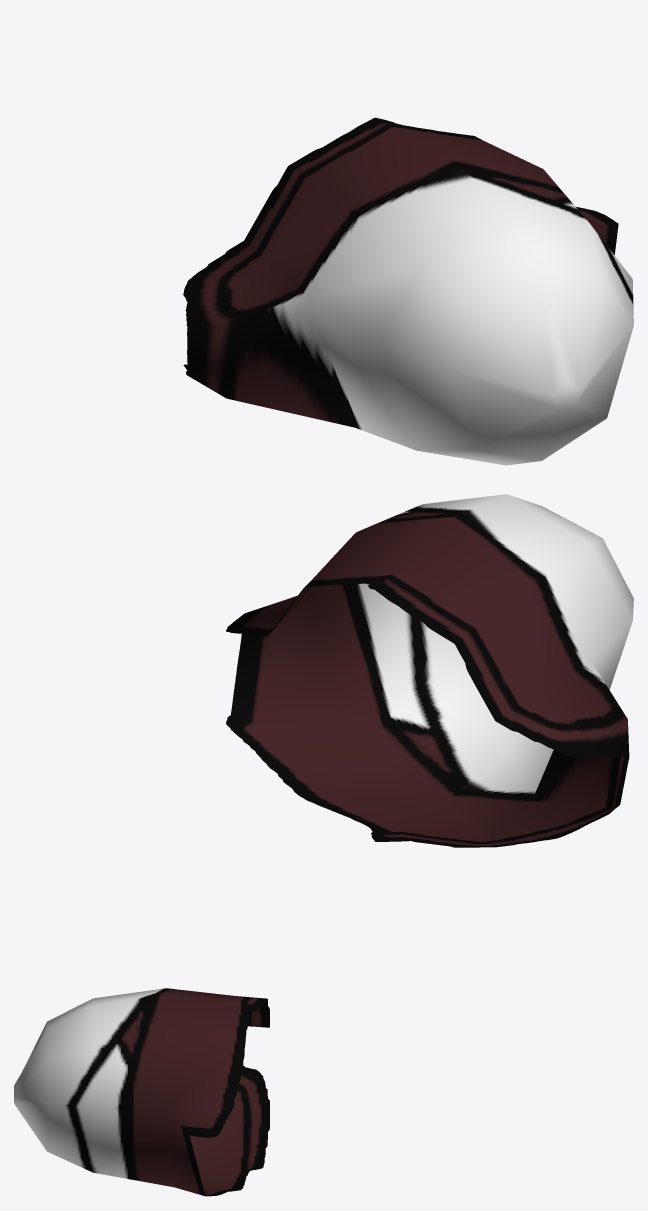
File: Fish_03.fbx
The picture shows the model from 3 angles, top to bottom: view 1: azimuth 30°, elevation 25°; view 2: azimuth 150°, elevation 25°; view 3: azimuth 270°, elevation 25°; orthographic projection. The views are drawn at different scales.
Visible parts, largest first — view 1: Fish_03; view 2: Fish_03; view 3: Fish_03.
Part boxes in pixels (<box>): Fish_03: <box>183,117,633,465</box>; Fish_03: <box>226,494,633,847</box>; Fish_03: <box>14,988,269,1196</box>.
Size of the model in its own units: 0.3304 by 0.1781 by 0.5485.
